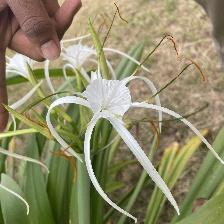spider lily: (73, 70, 154, 155)
